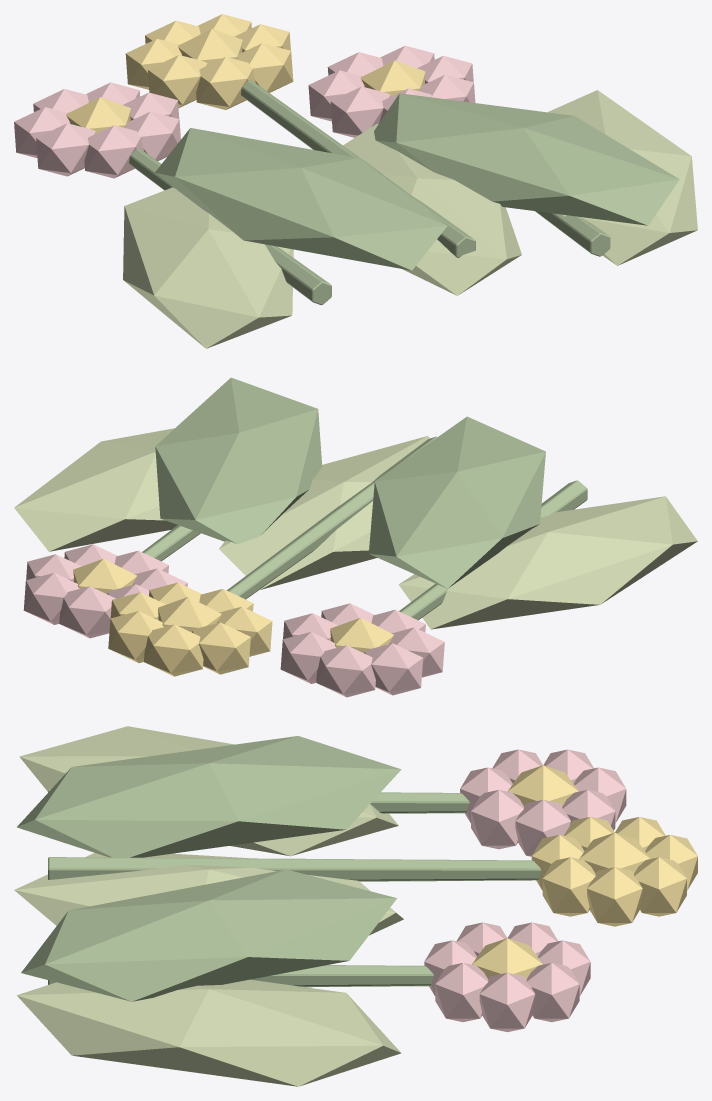
The model's file is Garden_Flower_Clump_Summer.fbx.
3 renders of one model, top to bottom at view 1: azimuth 30°, elevation 25°; view 2: azimuth 150°, elevation 25°; view 3: azimuth 270°, elevation 25°, orthographic. The views are drawn at different scales.
Parts seen in each view (by area): view 1: Garden_Leaf.001, Garden_Leaf.003, Garden_Leaf, Garden_Leaf.002, Garden_Leaf.004, Flower_Stem.001, Flower_Stem, Flower_Petal.004, Flower_Petal.012, Flower_Petal.005, Flower_Petal.018, Flower_Petal.011 (+19 smaller); view 2: Garden_Leaf.001, Garden_Leaf.003, Garden_Leaf, Garden_Leaf.004, Garden_Leaf.002, Flower_Stem.001, Flower_Petal.002, Flower_Petal.009, Flower_Petal.003, Flower_Petal.010, Flower_Petal.016, Flower_Stem (+19 smaller); view 3: Garden_Leaf.001, Garden_Leaf.003, Garden_Leaf.004, Flower_Stem.001, Garden_Leaf, Garden_Leaf.002, Flower_Stem.002, Flower_Petal.014, Flower_Petal.007, Flower_Petal.013, Flower_Petal.015, Flower_Petal.020 (+20 smaller).
Boxes of the visible parts, box(x1,y1,x2,y2) form: Garden_Leaf.001: box(155, 128, 447, 270); Garden_Leaf.003: box(374, 93, 679, 225); Garden_Leaf: box(123, 187, 293, 348); Garden_Leaf.002: box(343, 124, 521, 295); Garden_Leaf.004: box(548, 90, 697, 265); Flower_Stem.001: box(241, 80, 475, 257); Flower_Stem: box(129, 148, 331, 305); Flower_Petal.004: box(36, 123, 96, 176); Flower_Petal.012: box(196, 57, 255, 109); Flower_Petal.005: box(84, 125, 143, 178); Flower_Petal.018: box(330, 86, 390, 137); Flower_Petal.011: box(148, 55, 207, 107); Garden_Leaf.001: box(368, 416, 545, 588); Garden_Leaf.003: box(155, 377, 322, 544); Garden_Leaf: box(398, 496, 697, 629); Garden_Leaf.004: box(14, 428, 177, 551); Garden_Leaf.002: box(219, 436, 429, 589); Flower_Stem.001: box(227, 436, 437, 599); Flower_Petal.002: box(316, 645, 375, 697); Flower_Petal.009: box(144, 624, 203, 676); Flower_Petal.003: box(364, 643, 423, 695); Flower_Petal.010: box(192, 622, 250, 674); Flower_Petal.016: box(59, 586, 115, 638); Flower_Stem: box(399, 480, 587, 620); Garden_Leaf.001: box(17, 736, 401, 857); Garden_Leaf.003: box(21, 869, 396, 1001); Garden_Leaf.004: box(17, 979, 401, 1086); Flower_Stem.001: box(48, 857, 541, 881); Garden_Leaf: box(19, 726, 398, 856); Garden_Leaf.002: box(14, 853, 403, 935); Flower_Stem.002: box(48, 965, 433, 987); Flower_Petal.014: box(479, 972, 535, 1032); Flower_Petal.007: box(587, 867, 642, 926); Flower_Petal.013: box(542, 857, 595, 916); Flower_Petal.015: box(526, 963, 579, 1022); Flower_Petal.020: box(435, 963, 488, 1022).
Size of the model in its own units: 124 by 24 by 115.
